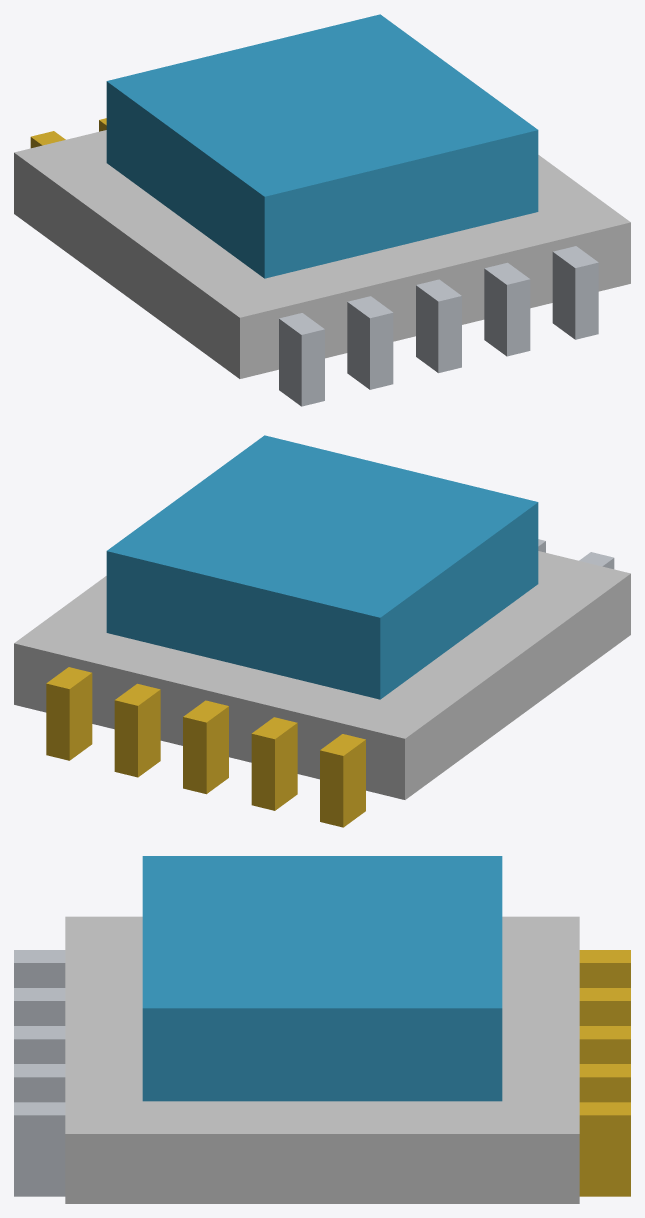
File: range_perk.obj
3 renders of one model, top to bottom at view 1: azimuth 30°, elevation 25°; view 2: azimuth 150°, elevation 25°; view 3: azimuth 270°, elevation 25°, orthographic. The views are drawn at different scales.
Visible parts, largest first — view 1: range_perk; view 2: range_perk; view 3: range_perk.
Boxes of the visible parts, <box> form: range_perk: <box>14,14,630,406</box>; range_perk: <box>14,435,630,827</box>; range_perk: <box>14,856,630,1203</box>.
Size of the model in its own units: 0.2 by 0.08 by 0.24.
